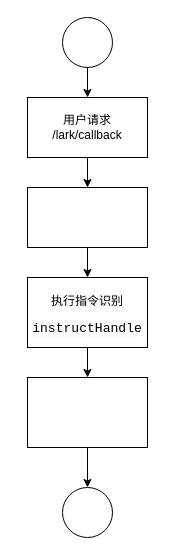
Some shapes in this 174 by 555 pixel diagram are drawn without their labels. The box of each missing label's shape, as (x1, y1, x2, y2) in pixels:
事件驱动: (26, 186, 148, 248)
发送执行完毕消息: (26, 376, 148, 448)
